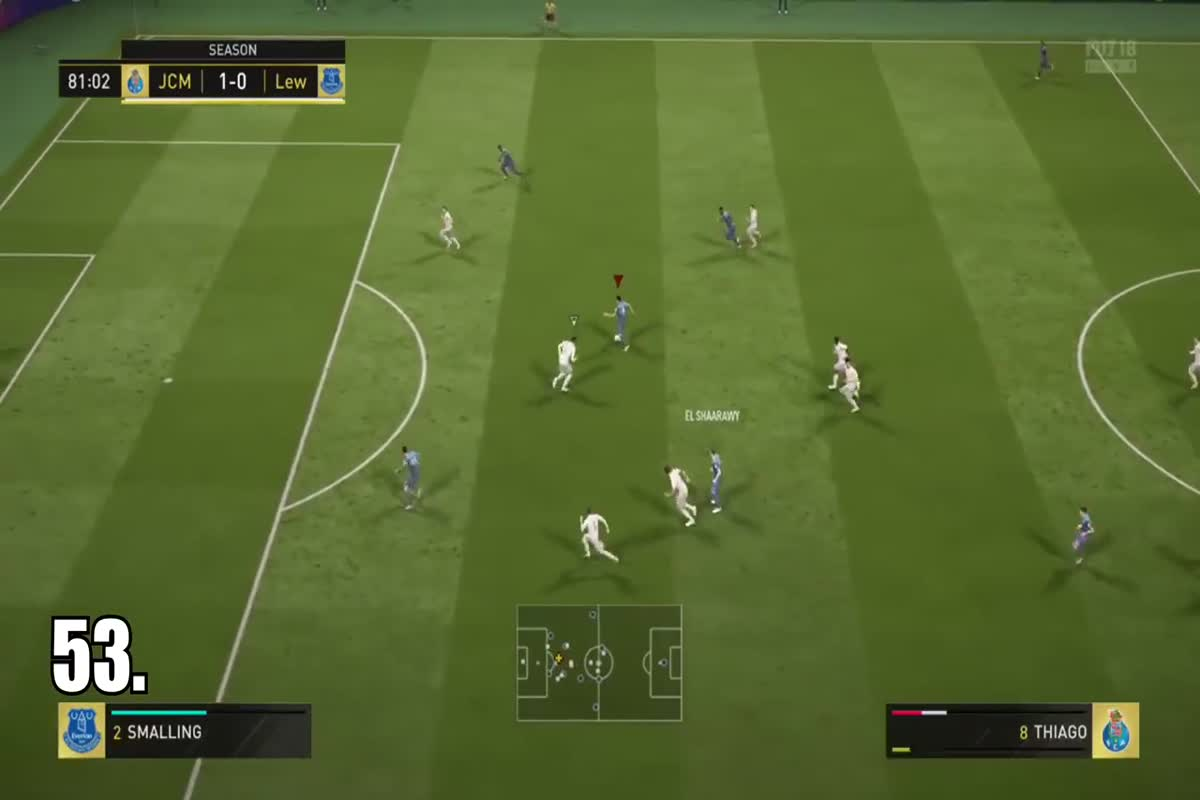ball: (607, 328, 628, 348)
